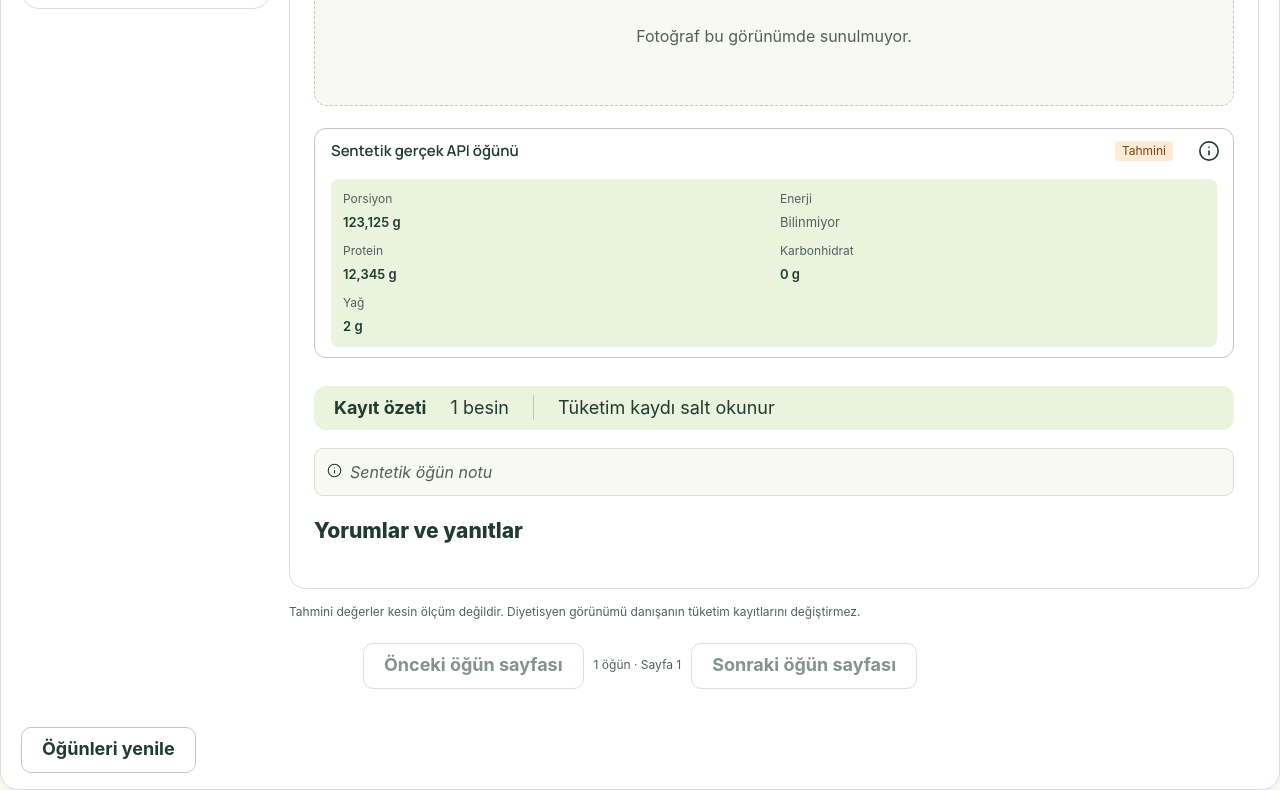
Test: real meal panel › removes cached meals and counts on access loss (403) and permits explicit retry
The image size is (1280, 790).
(page scrolled)
Expected: the heading "Sentetik gerçek API öğünü" is shown, [331,140,519,161]
Click the button "Öğünleri yenile". click: (108, 750)
box: [21,727,196,773]
(page scrolled)
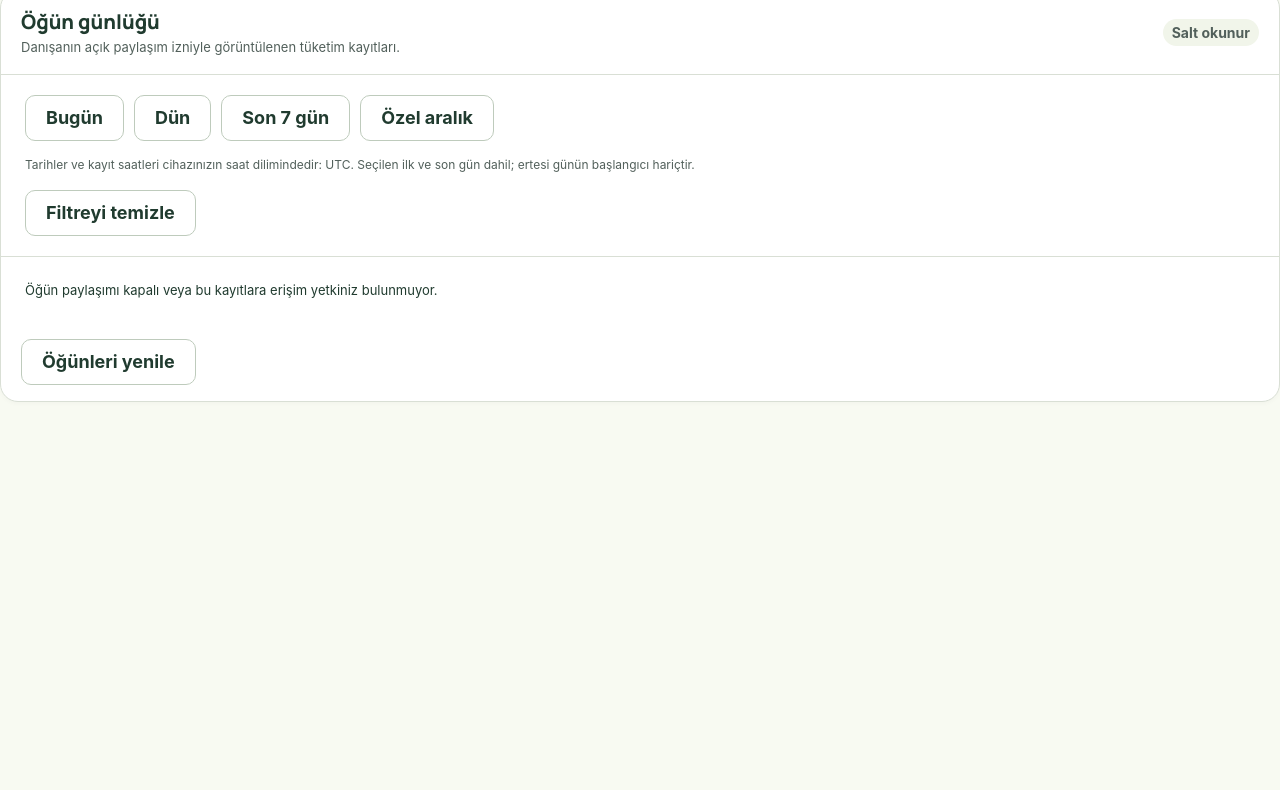
Result: the message shows "Öğün paylaşımı kapalı" at [25,282,438,298]
Result: the heading "Sentetik gerçek API öğünü" is gone
Result: the text "1 öğün · Sayfa 1" is gone
Click the button "Öğünleri yenile". click: (108, 362)
box: [21,339,196,385]
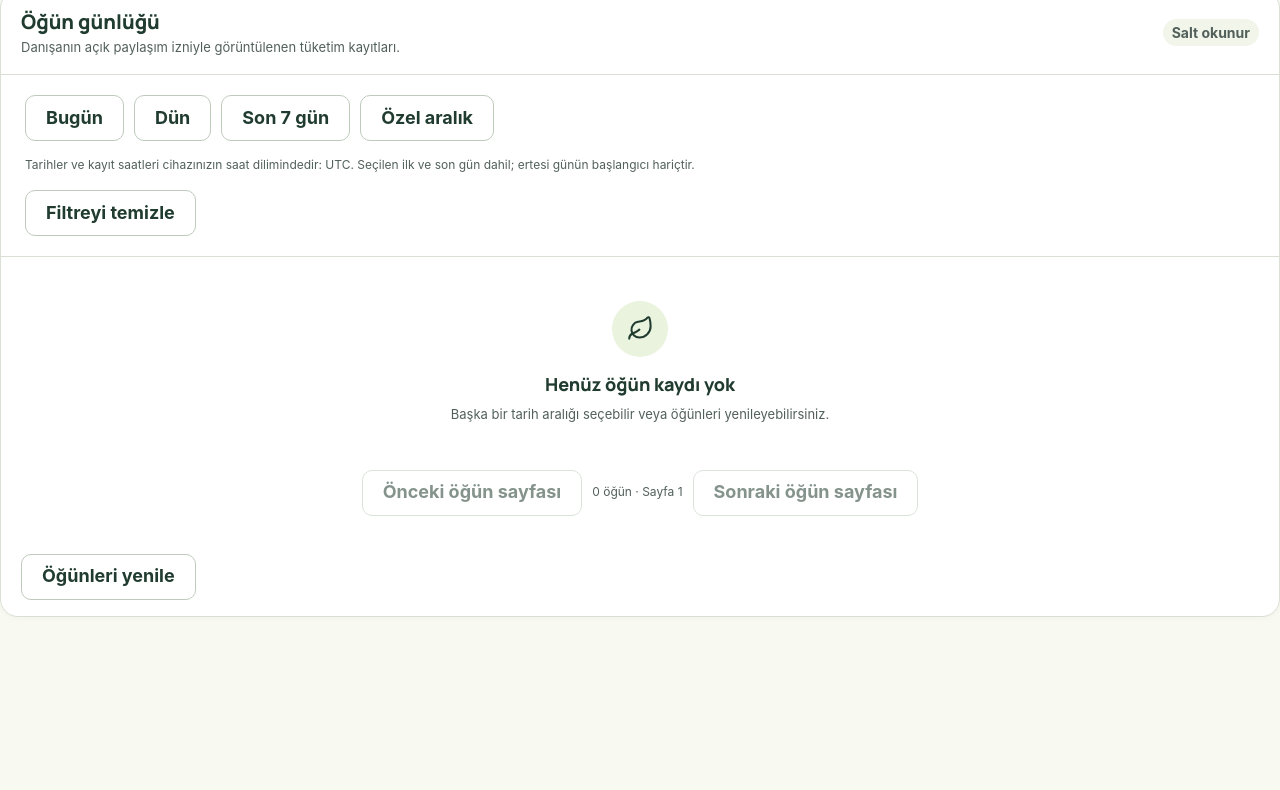
Result: the heading "Henüz öğün kaydı yok" is shown at [545,373,735,396]
